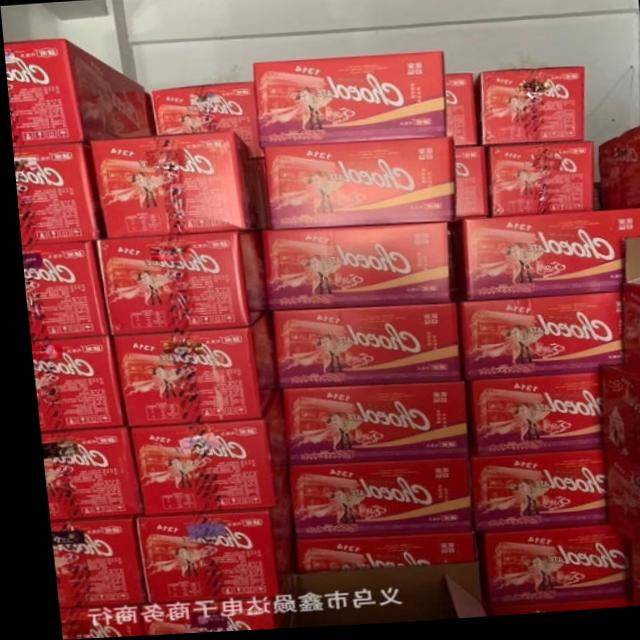box: (129, 471, 286, 605), (119, 388, 277, 515), (104, 312, 274, 429), (87, 132, 266, 239), (251, 57, 443, 148), (256, 142, 453, 229), (89, 233, 260, 333), (255, 225, 449, 312), (3, 39, 153, 146), (276, 459, 466, 542), (267, 306, 454, 390), (276, 383, 462, 465), (452, 294, 615, 384), (460, 212, 618, 302), (464, 529, 615, 617), (281, 564, 473, 630), (461, 455, 600, 537), (457, 376, 592, 458), (131, 570, 284, 636), (33, 425, 136, 518), (10, 142, 100, 240), (41, 516, 140, 605), (473, 71, 582, 151), (25, 335, 117, 428), (17, 240, 103, 337), (484, 147, 592, 219), (282, 535, 469, 575), (147, 84, 252, 155), (590, 371, 640, 484), (591, 458, 640, 566), (593, 131, 640, 213), (615, 245, 640, 379), (49, 603, 136, 640), (448, 149, 488, 224), (443, 77, 476, 151), (616, 547, 640, 606), (614, 214, 640, 244)
